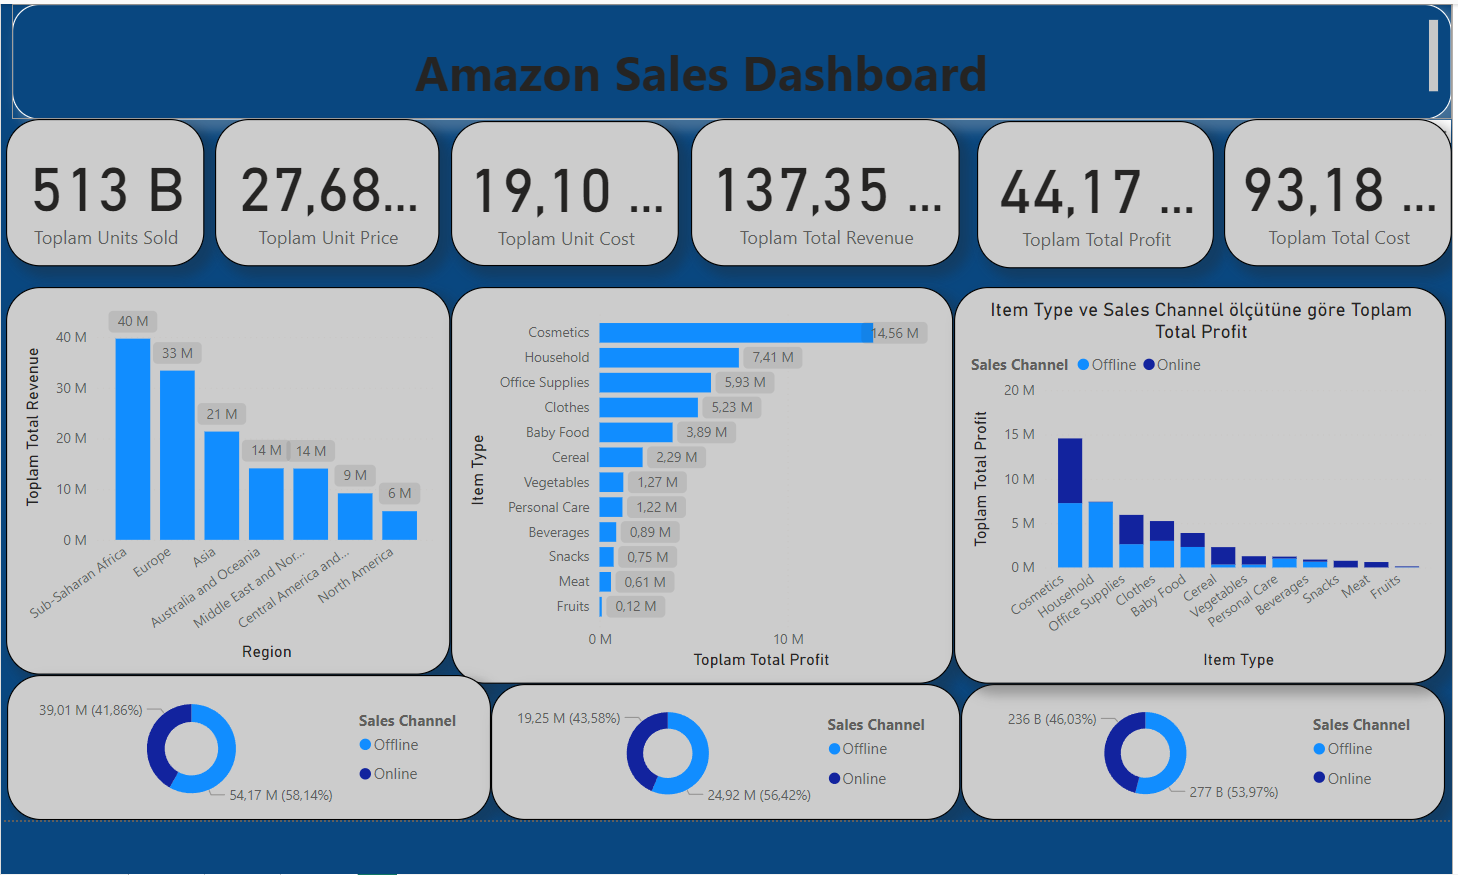

Layout of this report page (visuals, bound fields, positions):
{"tool":"powerbi","page":{"name":"Page 1","canvas":[1280,720],"ordinal":0},"visuals":[{"type":"textbox","box":[10.1,0,1269.9,101.8],"z":0},{"type":"card","title":"Total Unit Sold","fields":{"Values":["Sum(Amazon Sales data.Units Sold)"]},"box":[4.7,101.5,174.9,129.6],"z":1000},{"type":"card","fields":{"Values":["Sum(Amazon Sales data.Unit Price)"]},"box":[189,101.5,198.4,129.6],"z":2000},{"type":"card","fields":{"Values":["Sum(Amazon Sales data.Unit Cost)"]},"box":[396.7,103.1,201.5,128.1],"z":3000},{"type":"card","fields":{"Values":["Sum(Amazon Sales data.Total Revenue)"]},"box":[609.1,101.5,237.4,129.6],"z":4000},{"type":"card","fields":{"Values":["Sum(Amazon Sales data.Total Profit)"]},"box":[860.6,103.1,209.3,129.6],"z":5000},{"type":"card","fields":{"Values":["Sum(Amazon Sales data.Total Cost)"]},"box":[1078.5,101.5,201.5,129.6],"z":6000},{"type":"clusteredColumnChart","fields":{"Y":["Sum(Amazon Sales data.Total Revenue)"],"Category":["Amazon Sales data.Region"]},"box":[4.7,249.9,392,342],"z":7000},{"type":"barChart","fields":{"Category":["Amazon Sales data.Item Type"],"Y":["Sum(Amazon Sales data.Total Profit)"]},"box":[397.1,250,443.5,349.7],"z":8000},{"type":"donutChart","fields":{"Category":["Amazon Sales data.Sales Channel"],"Y":["Sum(Amazon Sales data.Total Cost)"]},"box":[5,591.6,427.3,128],"z":9000},{"type":"donutChart","fields":{"Category":["Amazon Sales data.Sales Channel"],"Y":["Sum(Amazon Sales data.Total Profit)"]},"box":[432.6,599.7,413.9,120.3],"z":10000},{"type":"donutChart","fields":{"Category":["Amazon Sales data.Sales Channel"],"Y":["Sum(Amazon Sales data.Units Sold)"]},"box":[846.6,599.7,427.3,119.9],"z":11000},{"type":"lineStackedColumnComboChart","fields":{"Category":["Amazon Sales data.Item Type"],"Y":["Sum(Amazon Sales data.Total Profit)"],"Series":["Amazon Sales data.Sales Channel"]},"box":[840.6,250,434.4,349.7],"z":12000}]}

Visuals, with their boxes in screenshot pixels (x1, y1, x2, y2):
textbox: l=15, t=0, r=1442, b=114
"Total Unit Sold" card: l=9, t=114, r=206, b=260
card - Sum(Amazon Sales data.Unit Price): l=216, t=114, r=439, b=260
card - Sum(Amazon Sales data.Unit Cost): l=449, t=116, r=676, b=260
card - Sum(Amazon Sales data.Total Revenue): l=688, t=114, r=955, b=260
card - Sum(Amazon Sales data.Total Profit): l=971, t=116, r=1206, b=261
card - Sum(Amazon Sales data.Total Cost): l=1215, t=114, r=1442, b=260
clusteredColumnChart - Sum(Amazon Sales data.Total Revenue) x Amazon Sales data.Region: l=9, t=281, r=449, b=665
barChart - Amazon Sales data.Item Type x Sum(Amazon Sales data.Total Profit): l=450, t=281, r=948, b=674
donutChart - Amazon Sales data.Sales Channel x Sum(Amazon Sales data.Total Cost): l=9, t=665, r=489, b=808
donutChart - Amazon Sales data.Sales Channel x Sum(Amazon Sales data.Total Profit): l=490, t=674, r=955, b=809
donutChart - Amazon Sales data.Sales Channel x Sum(Amazon Sales data.Units Sold): l=955, t=674, r=1435, b=808
lineStackedColumnComboChart - Amazon Sales data.Item Type x Sum(Amazon Sales data.Total Profit): l=948, t=281, r=1436, b=674
